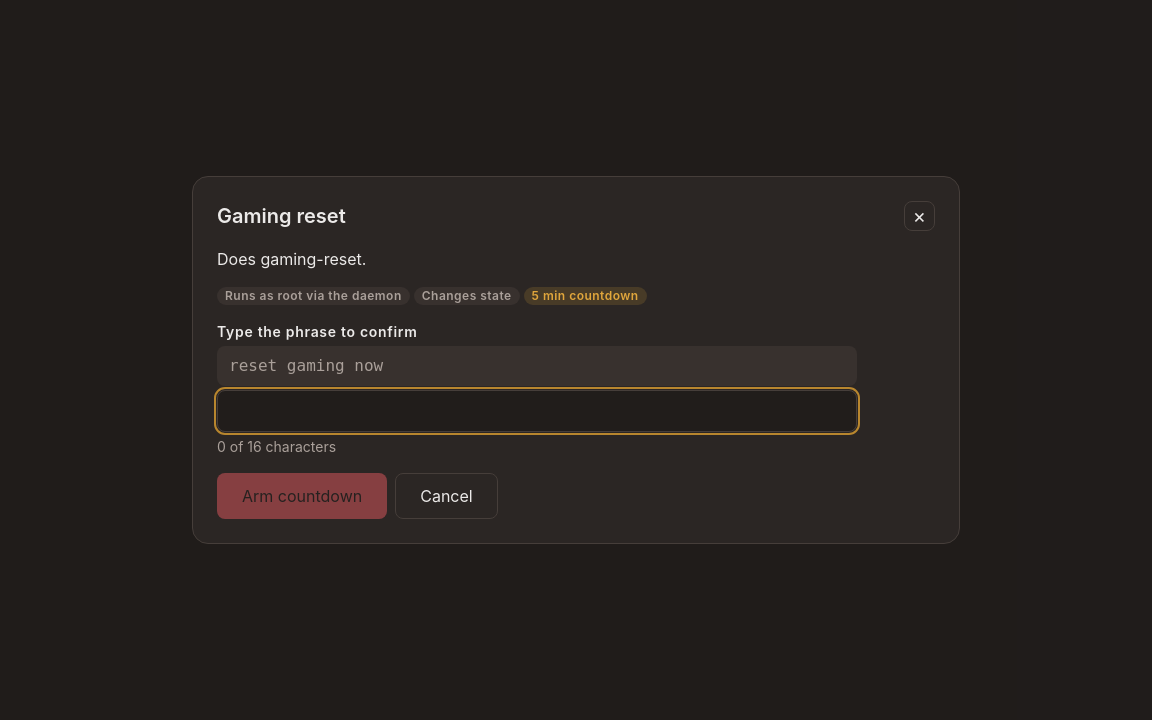
it: RunnerDialog countdown commands › navigating away while armed drops it too, even if the server refuses
Type "reset gaming now" into the field labelled "Type the phrase to confirm" at [537, 411], box x1=217 y1=390 x2=857 y2=432
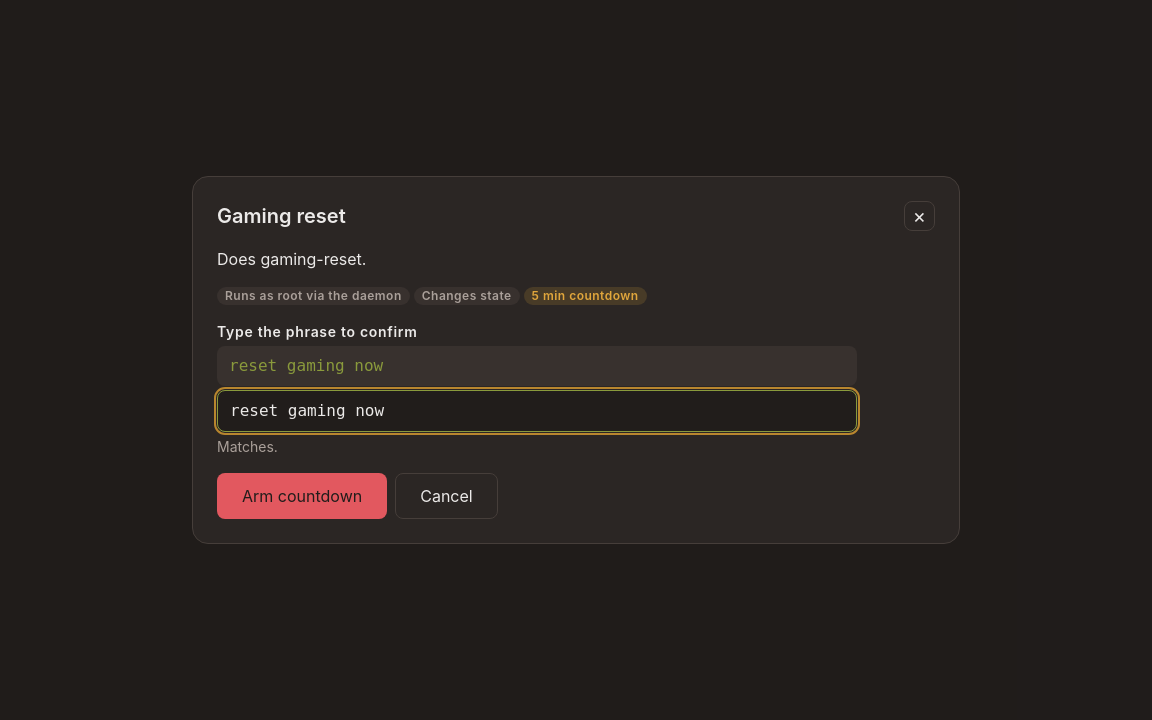
Click the button "Arm countdown" at [302, 496], box x1=217 y1=473 x2=387 y2=519
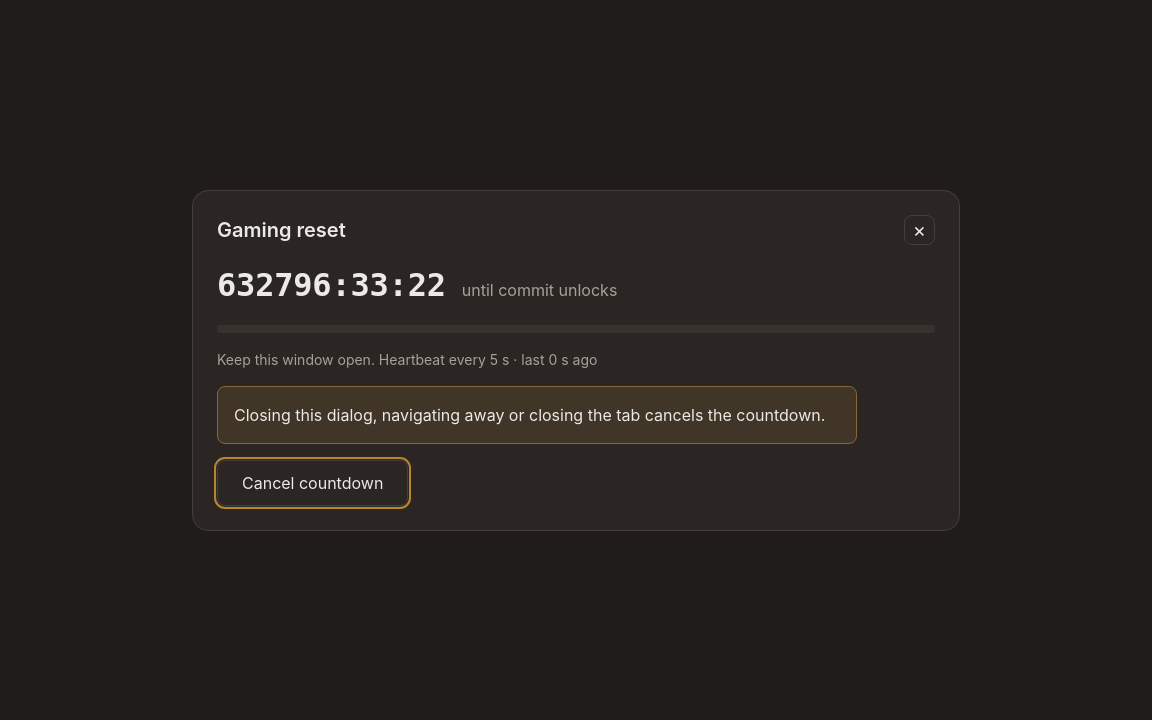
expect the button "Cancel countdown" is shown: met, box x1=217 y1=460 x2=408 y2=506
